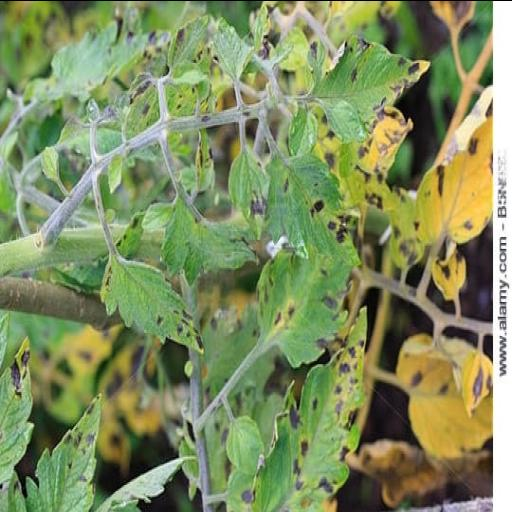Early Blight: (249, 304, 367, 512), (312, 30, 432, 144), (414, 82, 493, 244), (256, 244, 354, 370), (392, 333, 492, 456), (98, 256, 206, 354), (264, 155, 360, 265), (24, 390, 102, 512), (0, 335, 33, 487)
